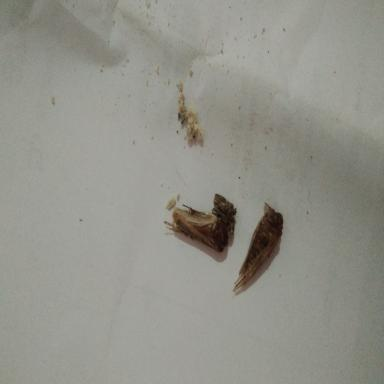pbw: (232, 202, 284, 294), (164, 203, 229, 253)
